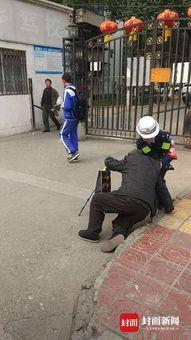Fall-Detected: (72, 127, 174, 255)
